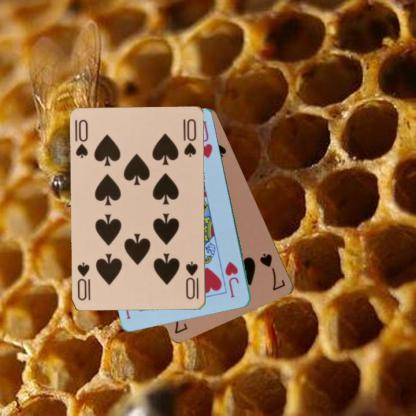10s: (183, 259, 201, 300), (74, 117, 90, 160)
7s: (257, 250, 287, 292)
Jh: (222, 259, 241, 299)
